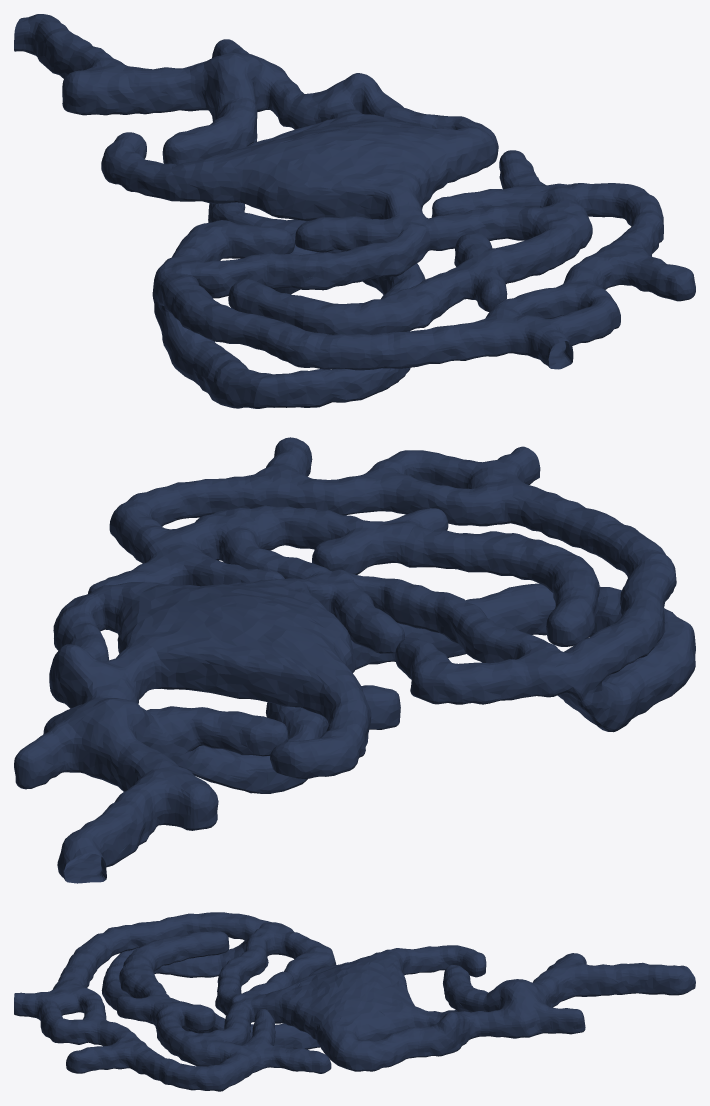
File: Cave.fbx
3 renders of one model, top to bottom at view 1: azimuth 30°, elevation 25°; view 2: azimuth 150°, elevation 25°; view 3: azimuth 270°, elevation 25°, orthographic. The views are drawn at different scales.
Visible parts, largest first — view 1: Cube; view 2: Cube; view 3: Cube.
Boxes of the visible parts, x1=… form: Cube: x1=14, y1=14, x2=695, y2=408; Cube: x1=14, y1=437, x2=695, y2=883; Cube: x1=14, y1=912, x2=695, y2=1091.
Size of the model in its own units: 4265 by 1018 by 7413.
